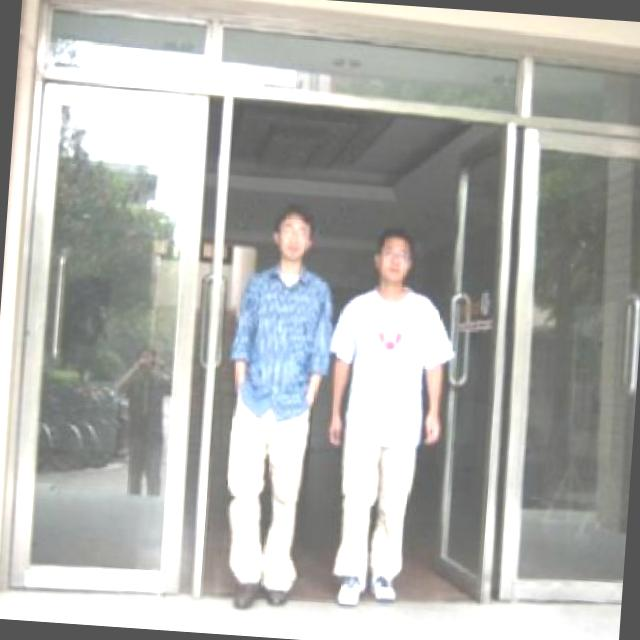Person: (323, 220, 470, 616), (210, 200, 340, 622)
